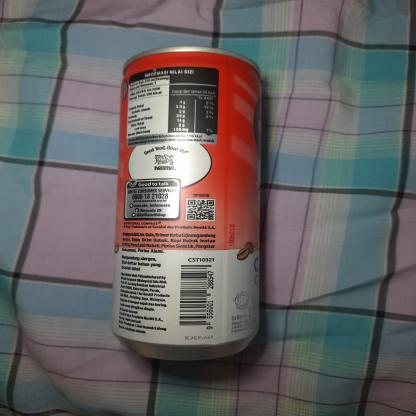bottle: (107, 47, 272, 371)
